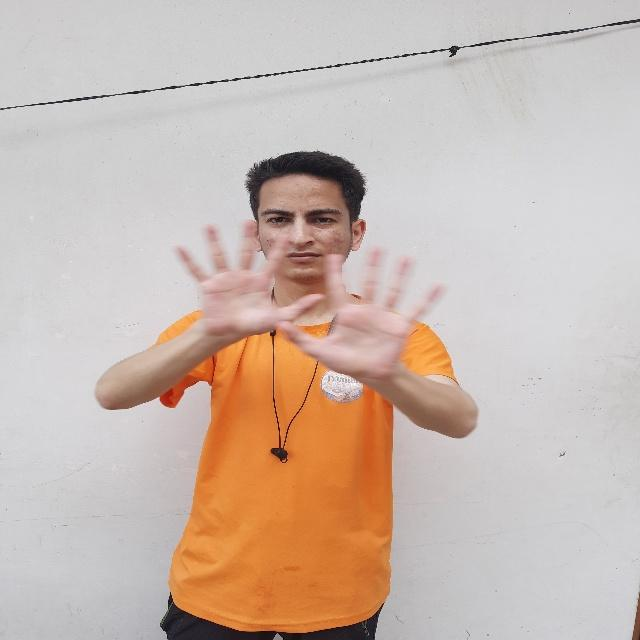Moutza: (276, 238, 458, 393), (164, 208, 327, 347)
